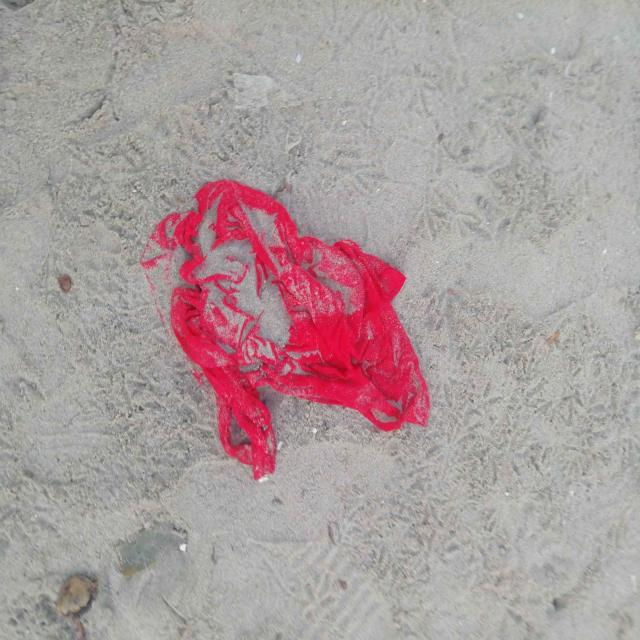other: (170, 181, 430, 479)
